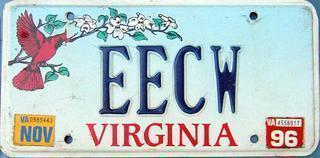placa de veiculo: (8, 1, 311, 157)
